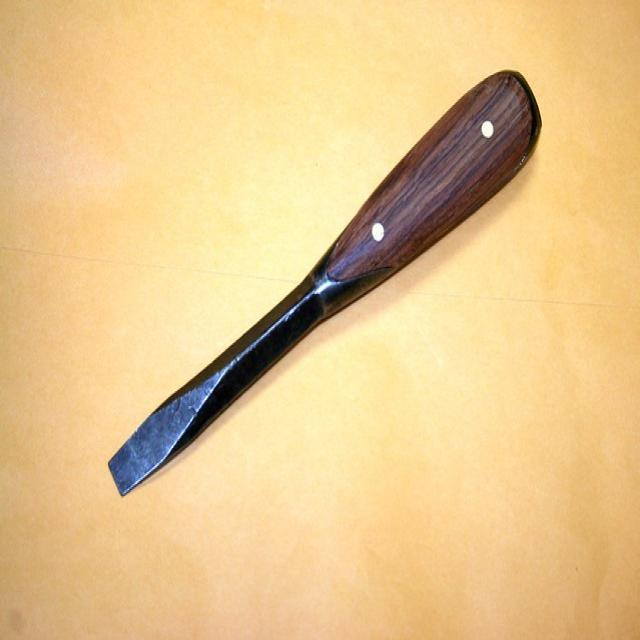screwdriver: (106, 62, 542, 502)
